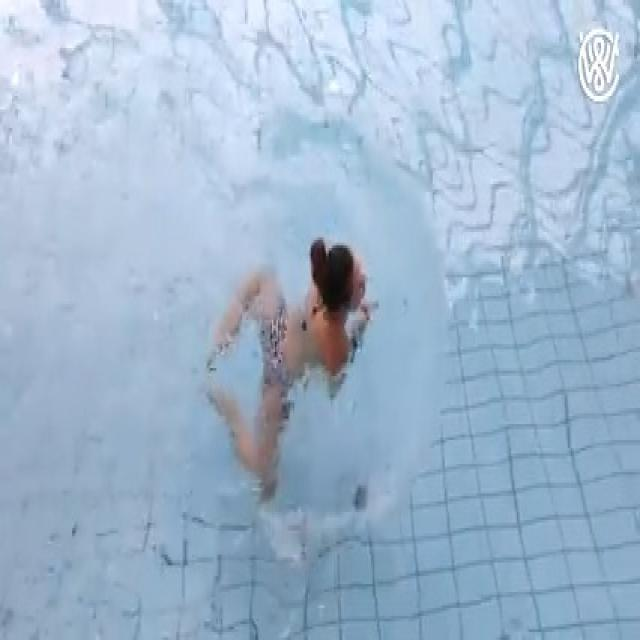Swimming: (191, 241, 377, 502)
